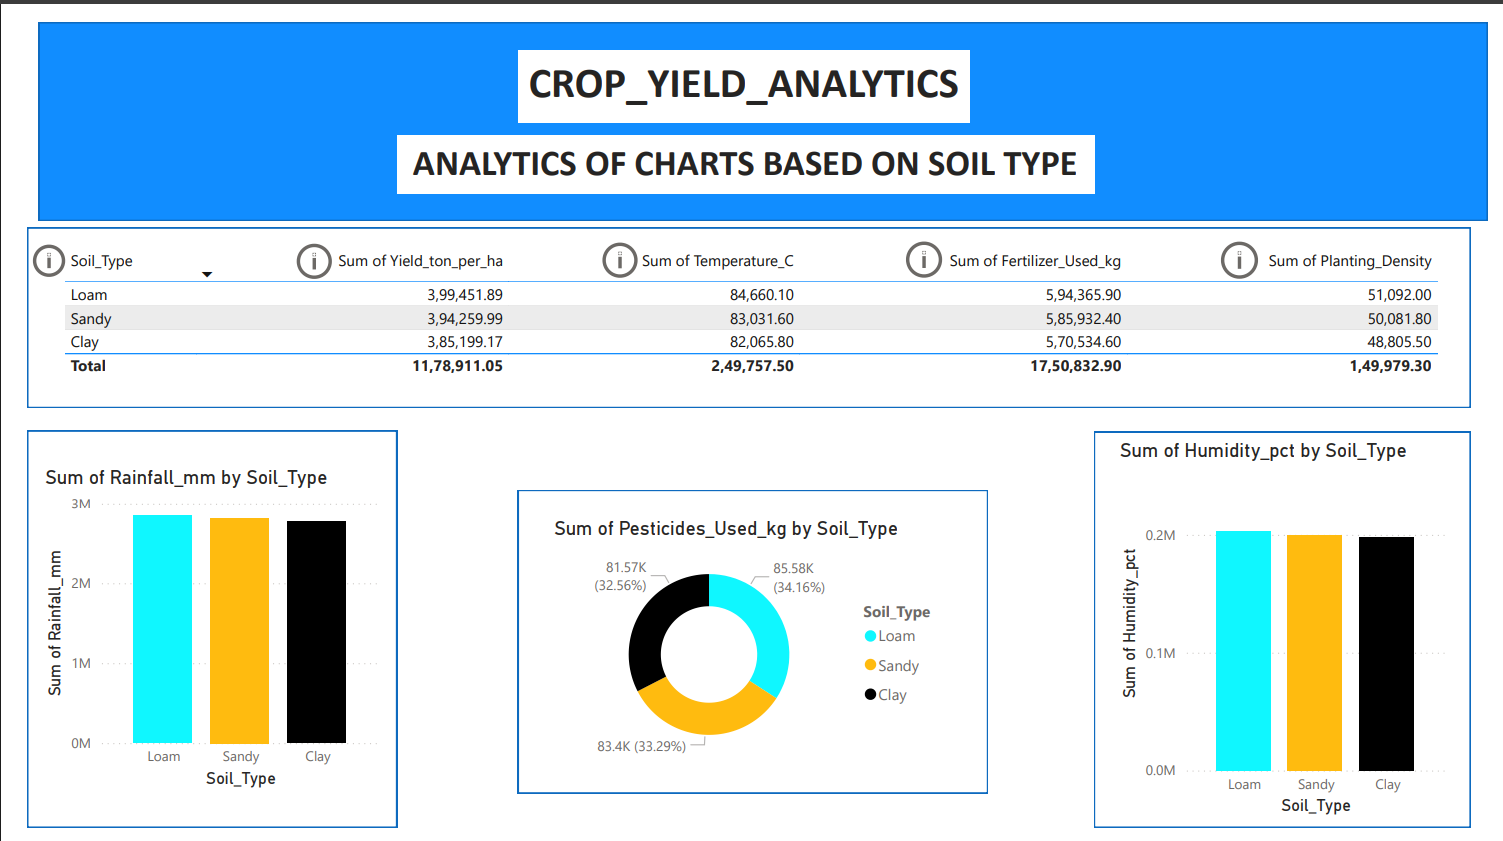

Layout of this report page (visuals, bound fields, positions):
{"tool":"powerbi","page":{"name":"Page 2","canvas":[1280,720],"ordinal":1},"visuals":[{"type":"shape","box":[9.6,0,1270.7,174.3],"z":0},{"type":"textbox","box":[430.1,24,396.1,63.7],"z":1000},{"type":"shape","box":[0,357.9,324,348],"z":2000},{"type":"columnChart","fields":{"Category":["crop_yield_dataset.Soil_Type"],"Y":["Sum(crop_yield_dataset.Rainfall_mm)"]},"box":[11.3,389,302.7,287.2],"z":3000},{"type":"textbox","box":[324,99,611.1,50.9],"z":4000},{"type":"shape","box":[935.1,359.3,329.6,346.6],"z":5000},{"type":"lineClusteredColumnComboChart","fields":{"Category":["crop_yield_dataset.Soil_Type"],"Y":["Sum(crop_yield_dataset.Humidity_pct)"]},"box":[953.5,365,294.3,335.3],"z":6000},{"type":"donutChart","fields":{"Category":["crop_yield_dataset.Soil_Type"],"Y":["Sum(crop_yield_dataset.Pesticides_Used_kg)"]},"box":[456.9,434.3,357.9,222.1],"z":7000},{"type":"shape","box":[430.1,410.3,411.7,266],"z":8000},{"type":"shape","box":[0,179.7,1264.7,158.4],"z":9000},{"type":"tableEx","fields":{"Values":["crop_yield_dataset.Soil_Type","Sum(crop_yield_dataset.Yield_ton_per_ha)","Sum(crop_yield_dataset.Temperature_C)","Sum(crop_yield_dataset.Fertilizer_Used_kg)","Sum(crop_yield_dataset.Planting_Density)"]},"box":[26.9,193.8,1225.1,130.2],"z":10000},{"type":"actionButton","box":[0,174,38.2,69.3],"z":11000},{"type":"actionButton","box":[230.6,186.7,41,45.3],"z":12000},{"type":"actionButton","box":[499.4,179.7,41,56.6],"z":13000},{"type":"actionButton","box":[765.3,186.7,49.5,42.4],"z":14000},{"type":"actionButton","box":[1041.2,183.9,42.4,48.1],"z":15000}]}

Visuals, with their boxes in screenshot pixels (x1, y1, x2, y2), scaled from the page's 1280x720 canvas onto the 1503x841 screenshot:
shape: pyautogui.locateOnScreen(11, 0, 1502, 204)
textbox: pyautogui.locateOnScreen(505, 28, 970, 102)
shape: pyautogui.locateOnScreen(0, 418, 380, 825)
columnChart - crop_yield_dataset.Soil_Type x Sum(crop_yield_dataset.Rainfall_mm): pyautogui.locateOnScreen(13, 454, 369, 790)
textbox: pyautogui.locateOnScreen(380, 116, 1098, 175)
shape: pyautogui.locateOnScreen(1098, 420, 1485, 825)
lineClusteredColumnComboChart - crop_yield_dataset.Soil_Type x Sum(crop_yield_dataset.Humidity_pct): pyautogui.locateOnScreen(1120, 426, 1465, 818)
donutChart - crop_yield_dataset.Soil_Type x Sum(crop_yield_dataset.Pesticides_Used_kg): pyautogui.locateOnScreen(537, 507, 957, 767)
shape: pyautogui.locateOnScreen(505, 479, 988, 790)
shape: pyautogui.locateOnScreen(0, 210, 1485, 395)
tableEx - crop_yield_dataset.Soil_Type x Sum(crop_yield_dataset.Yield_ton_per_ha): pyautogui.locateOnScreen(32, 226, 1470, 378)
actionButton: pyautogui.locateOnScreen(0, 203, 45, 284)
actionButton: pyautogui.locateOnScreen(271, 218, 319, 271)
actionButton: pyautogui.locateOnScreen(586, 210, 635, 276)
actionButton: pyautogui.locateOnScreen(899, 218, 957, 268)
actionButton: pyautogui.locateOnScreen(1223, 215, 1272, 271)
